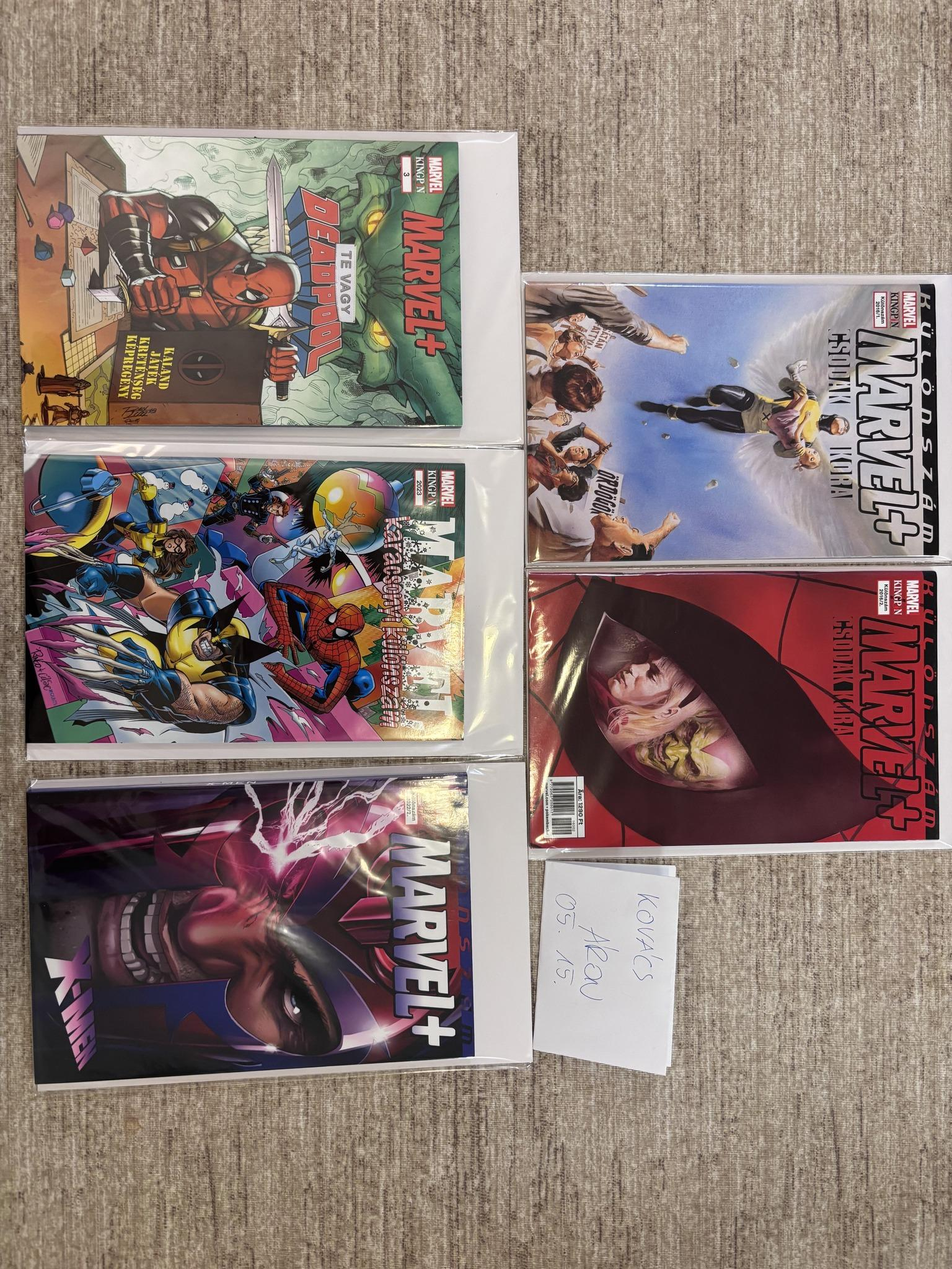comic: (19, 761, 495, 1087), (15, 128, 519, 431), (25, 446, 465, 755), (524, 274, 949, 566), (527, 569, 940, 852)
